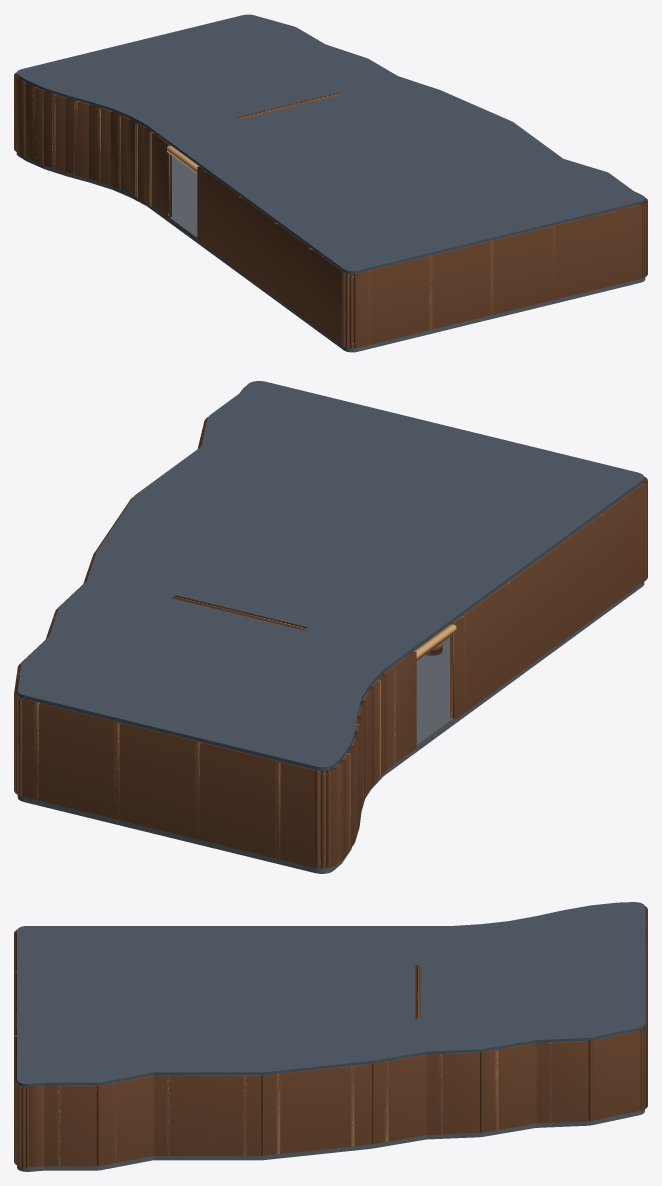
Rendered from Crew_Lounge.glb.
3 renders of one model, top to bottom at view 1: azimuth 30°, elevation 25°; view 2: azimuth 150°, elevation 25°; view 3: azimuth 270°, elevation 25°, orthographic. The views are drawn at different scales.
Visible parts, largest first — view 1: Ceiling_panel, Wall (×10), Crew_Lounge_floor; view 2: Ceiling_panel, Wall (×7), Crew_Lounge_floor; view 3: Ceiling_panel, Wall (×16), Crew_Lounge_floor, Rib.
Part boxes in pixels (x1,y1,x2,y2): Ceiling_panel: (16, 14, 645, 273); Wall (×10): (16, 78, 641, 347); Crew_Lounge_floor: (16, 152, 645, 352); Ceiling_panel: (17, 381, 644, 770); Wall (×7): (22, 483, 645, 867); Crew_Lounge_floor: (17, 582, 644, 873); Ceiling_panel: (17, 902, 644, 1086); Wall (×16): (14, 933, 640, 1167); Crew_Lounge_floor: (17, 1085, 644, 1171); Rib: (275, 1073, 280, 1154).
Bounding box in the file's own units: 16 × 3.58 × 23.22.
